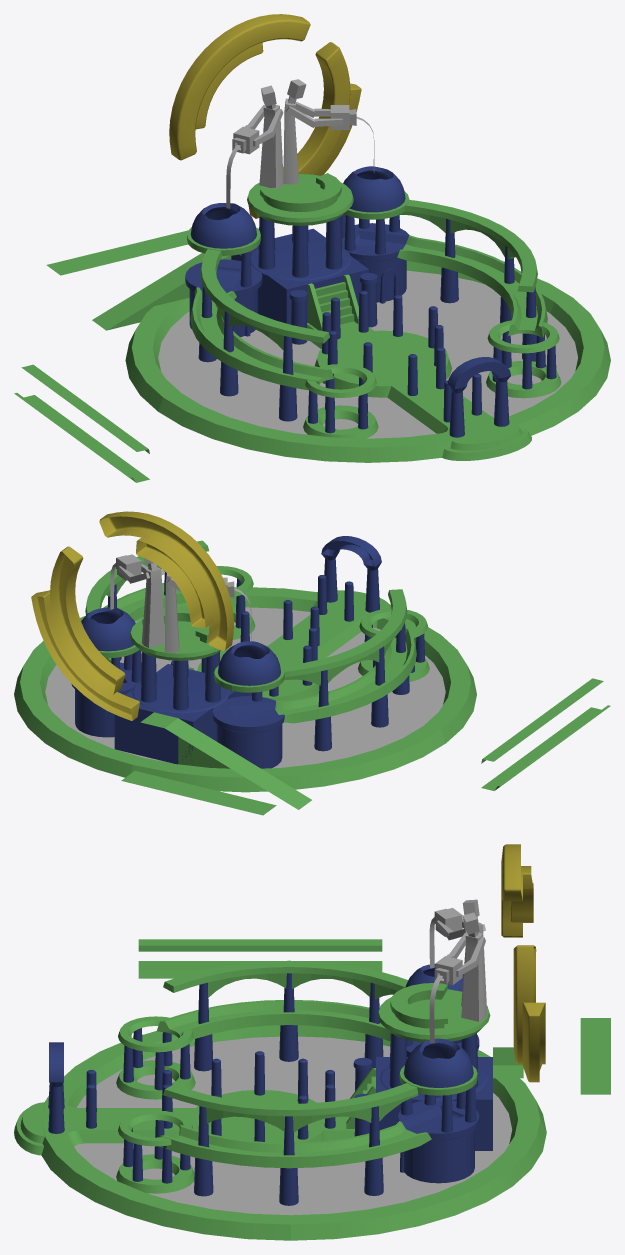
The model's file is SM_Building_Temple.fbx.
3 views of the same model, one above another, from view 1: azimuth 30°, elevation 25°; view 2: azimuth 150°, elevation 25°; view 3: azimuth 270°, elevation 25° (orthographic). The views are drawn at different scales.
Parts seen in each view (by area): view 1: pCylinder478, pCylinder479, polySurface988, polySurface877, pCylinder252, polySurface981, polySurface978, pCylinder254, pCube1276, pCube1316, pCube1292, pCylinder474 (+21 smaller); view 2: pCylinder478, polySurface877, polySurface981, pCylinder252, pCylinder254, pCylinder311, pCylinder479, pCube1316, pCylinder255, polySurface978, pCube1292, pCylinder327 (+19 smaller); view 3: pCylinder478, polySurface988, polySurface877, pCylinder479, polySurface978, pCylinder510, polySurface981, pCube1292, pCylinder512, pCylinder517, pCylinder474, pCylinder438 (+22 smaller).
Boxes of the visible parts, box(x1,y1,x2,y2) form: pCylinder478: box(125, 260, 610, 462); pCylinder479: box(307, 321, 494, 433); polySurface988: box(397, 200, 547, 337); polySurface877: box(190, 249, 333, 390); pCylinder252: box(169, 14, 310, 160); polySurface981: box(46, 228, 258, 330); polySurface978: box(14, 364, 149, 482); pCylinder254: box(283, 42, 350, 174); pCube1276: box(232, 85, 283, 188); pCube1316: box(231, 228, 368, 324); pCube1292: box(283, 79, 356, 184); pCylinder474: box(247, 174, 353, 225); pCylinder478: box(14, 587, 476, 792); polySurface877: box(275, 589, 416, 723); polySurface981: box(121, 712, 311, 815); pCylinder252: box(99, 511, 233, 650); pCylinder254: box(50, 546, 125, 694); pCylinder311: box(212, 696, 284, 768); pCylinder479: box(197, 601, 377, 700); pCube1316: box(114, 664, 246, 764); pCylinder255: box(31, 590, 139, 720); polySurface978: box(481, 678, 610, 790); pCube1292: box(116, 554, 164, 647); pCylinder327: box(218, 641, 280, 685); pCylinder478: box(41, 1025, 546, 1240); polySurface988: box(159, 1083, 431, 1168); polySurface877: box(157, 960, 407, 1041); pCylinder479: box(64, 1090, 354, 1146); polySurface978: box(138, 939, 382, 978); pCylinder510: box(398, 1100, 479, 1183); polySurface981: box(493, 1018, 610, 1094); pCube1292: box(434, 912, 486, 1021); pCylinder512: box(116, 1110, 194, 1193); pCylinder517: box(403, 1038, 473, 1087); pCylinder474: box(377, 989, 490, 1042); pCylinder438: box(116, 1016, 195, 1099).
Bounding box in the file's own units: 2081 × 1007 × 1958.
